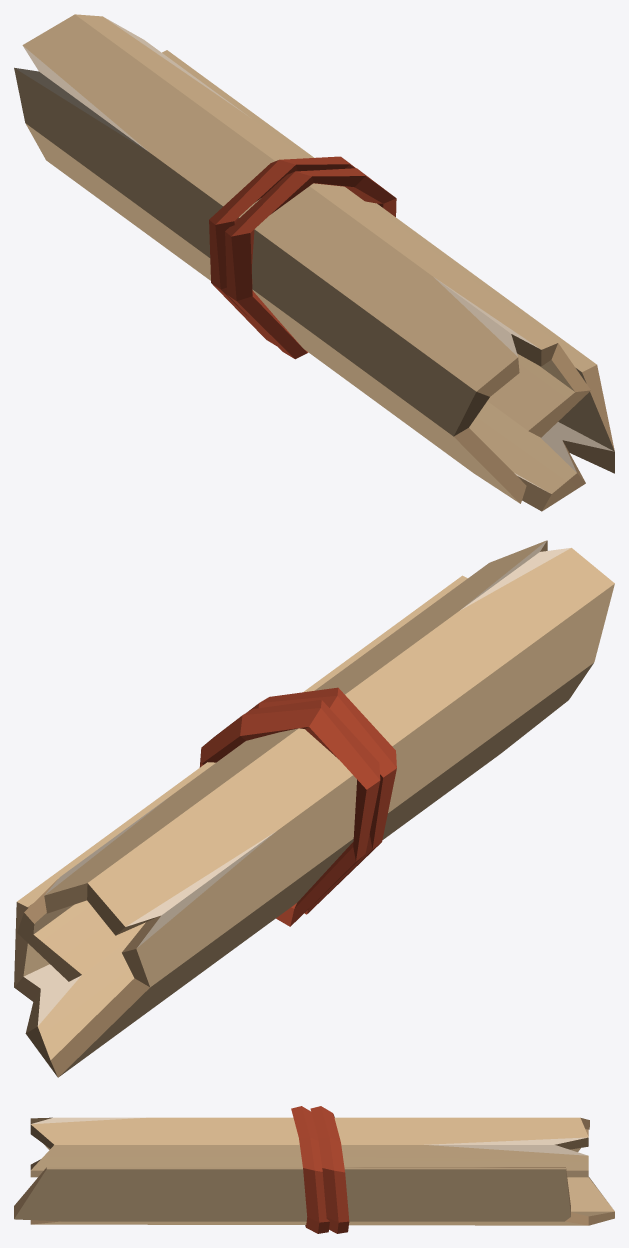
The model's file is Map_01.glb.
3 renders of one model, top to bottom at view 1: azimuth 30°, elevation 25°; view 2: azimuth 150°, elevation 25°; view 3: azimuth 270°, elevation 25°, orthographic. The views are drawn at different scales.
Parts seen in each view (by area): view 1: Map_01; view 2: Map_01; view 3: Map_01.
Part boxes in pixels (x1=…): Map_01: x1=14, y1=14, x2=614, y2=511; Map_01: x1=14, y1=540, x2=614, y2=1077; Map_01: x1=14, y1=1106, x2=614, y2=1233.
Size of what is drawn, in the model's own units: 0.1183 by 0.1344 by 0.6065.
1 material, 1 textured.
